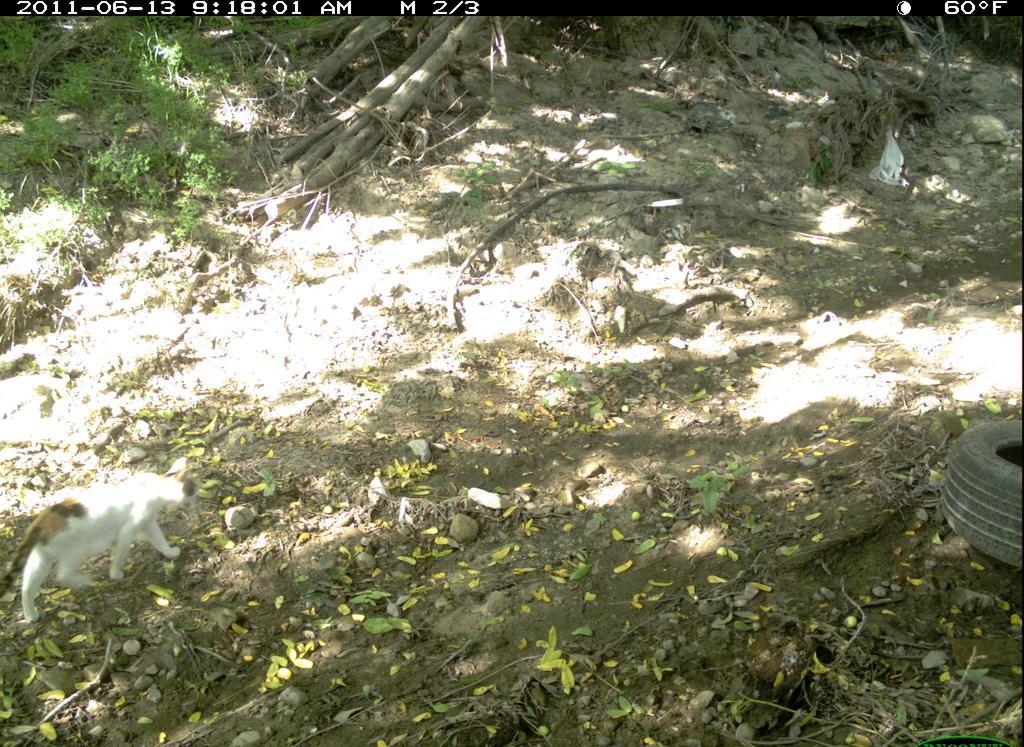cat: (6, 463, 226, 623)
